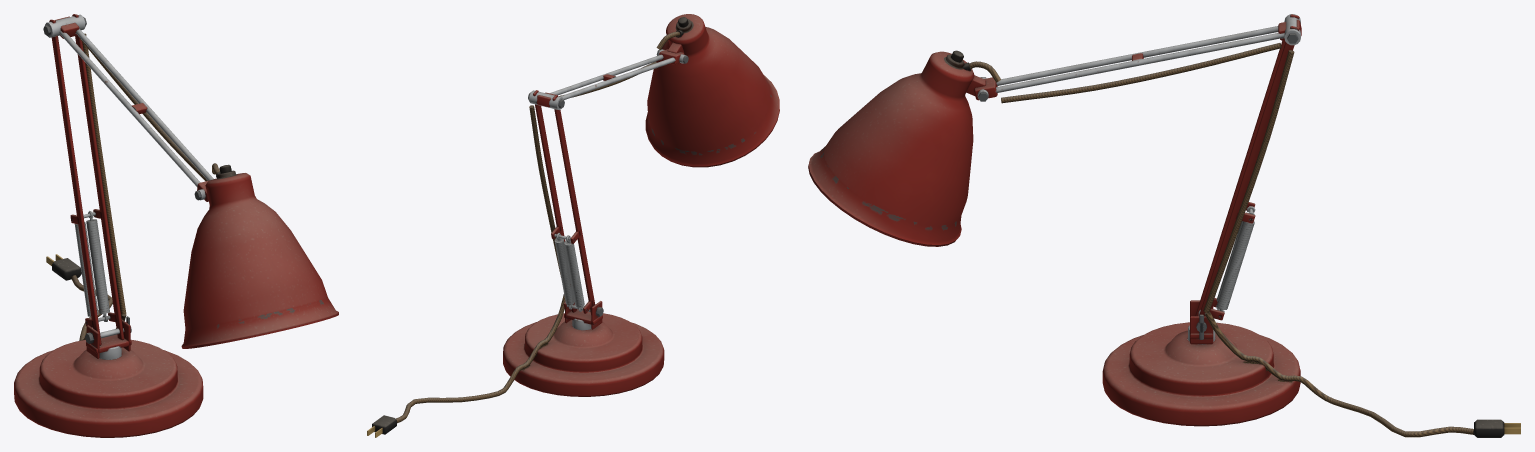
The model's file is DeskLamp.fbx.
3 renders of one model, left to right at view 1: azimuth 30°, elevation 25°; view 2: azimuth 150°, elevation 25°; view 3: azimuth 270°, elevation 25°, orthographic. The views are drawn at different scales.
Visible parts, largest first — view 1: DeskLamp_Head, DeskLamp_Base, DeskLamp_LowerArm, DeskLamp_UpperArm; view 2: DeskLamp_Head, DeskLamp_Base, DeskLamp_LowerArm, DeskLamp_UpperArm; view 3: DeskLamp_Head, DeskLamp_Base, DeskLamp_LowerArm, DeskLamp_UpperArm.
Boxes of the visible parts, x1,y1,x2,y2 form: DeskLamp_Head: (181, 163, 338, 348); DeskLamp_Base: (14, 254, 203, 437); DeskLamp_LowerArm: (43, 14, 126, 345); DeskLamp_UpperArm: (55, 16, 213, 201); DeskLamp_Head: (645, 14, 779, 167); DeskLamp_Base: (367, 294, 664, 437); DeskLamp_LowerArm: (528, 90, 595, 314); DeskLamp_UpperArm: (536, 49, 684, 107); DeskLamp_Head: (808, 51, 1000, 246); DeskLamp_Base: (1102, 300, 1520, 437); DeskLamp_LowerArm: (1195, 14, 1300, 320); DeskLamp_UpperArm: (974, 19, 1301, 103).
Bounding box in the file's own units: 0.82 × 1.47 × 2.59.
1 material, 1 textured.
